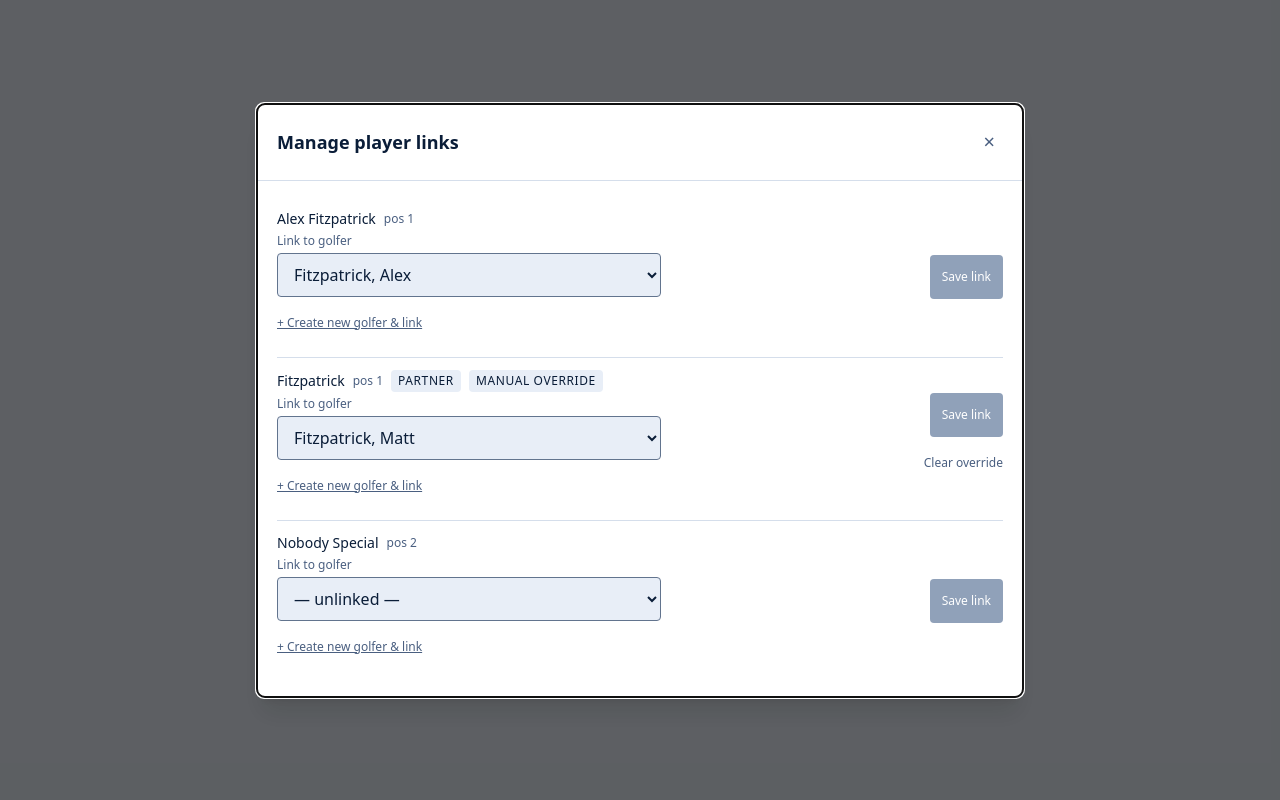
Test: PlayerLinksPanel › surfaces a server error when the upsert fails
Select "Scheffler, Scottie" in the dropdown labelled "Link to golfer" below "Nobody Special": [469, 598] box x1=277 y1=576 x2=661 y2=620
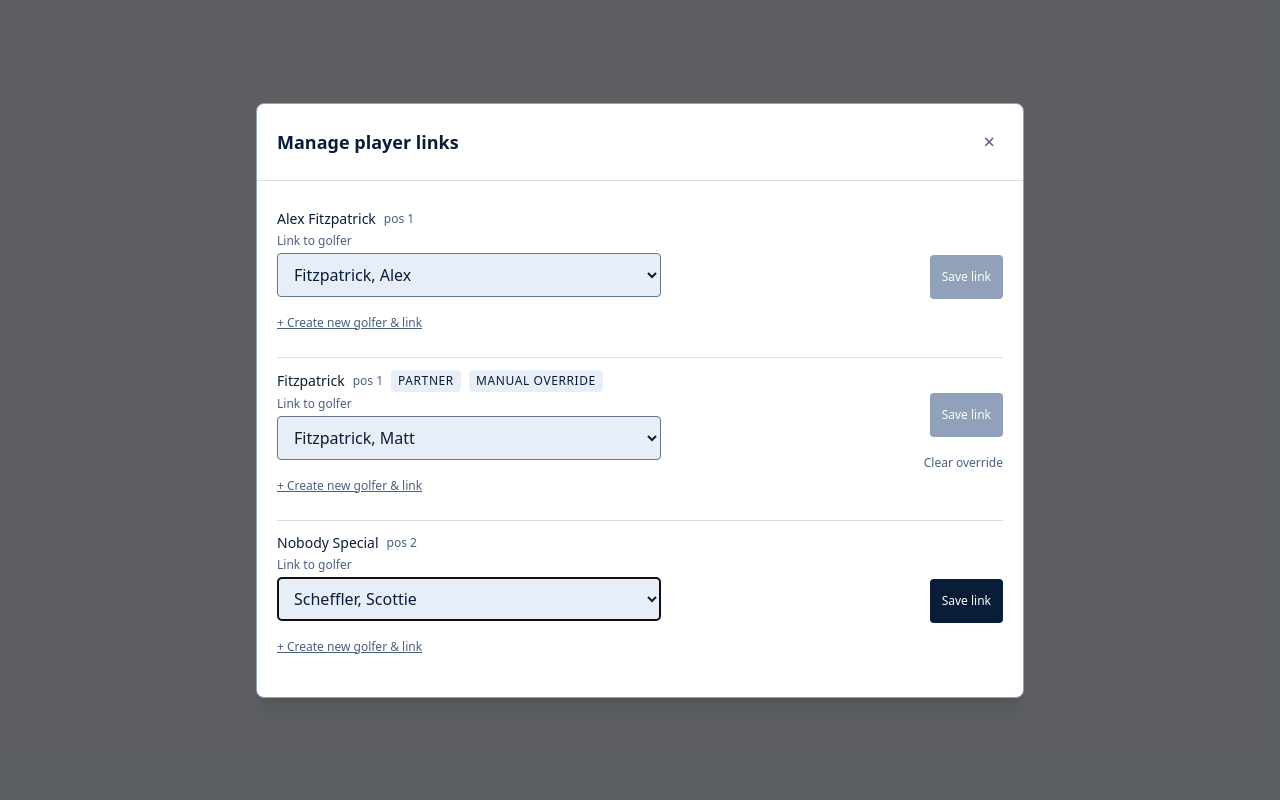
Click the 3rd button "Save link": [966, 600] box x1=930 y1=578 x2=1003 y2=622
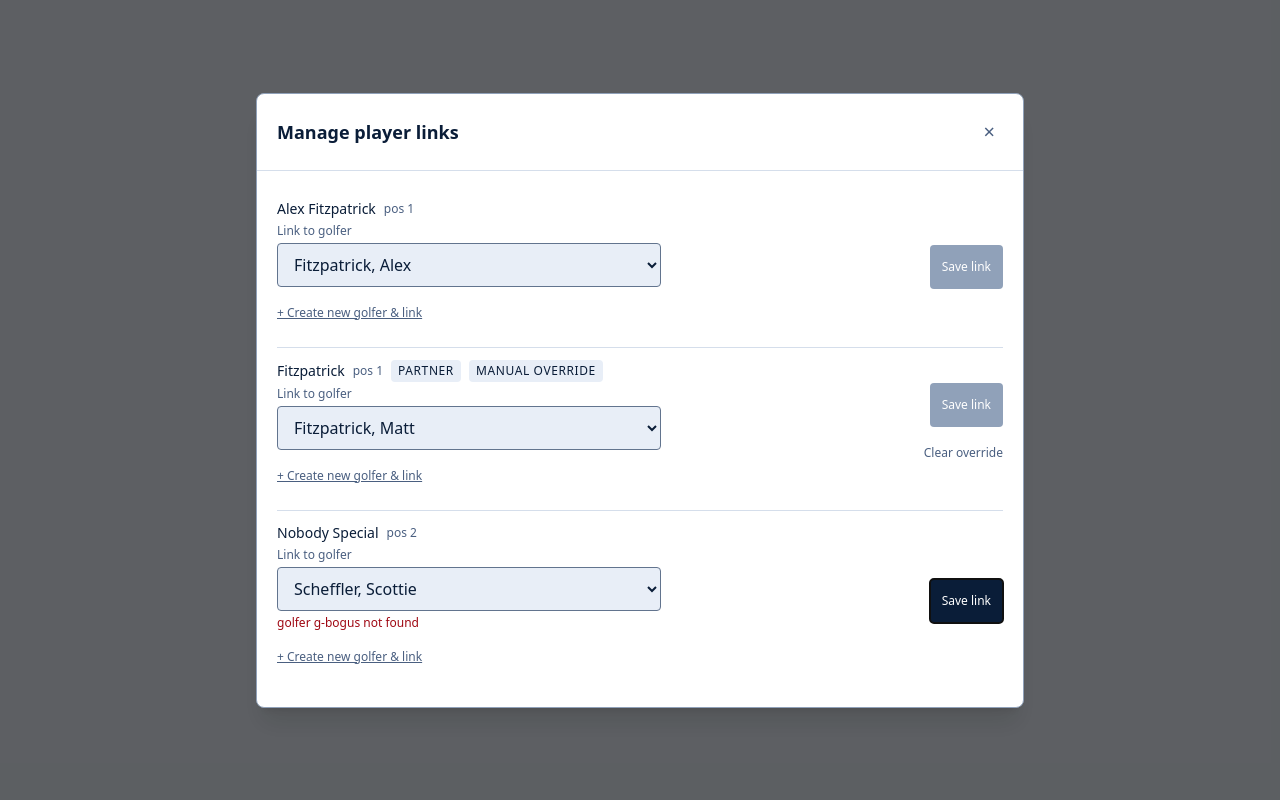
Expected: the message reads "golfer g-bogus not found", x1=277 y1=614 x2=419 y2=630
